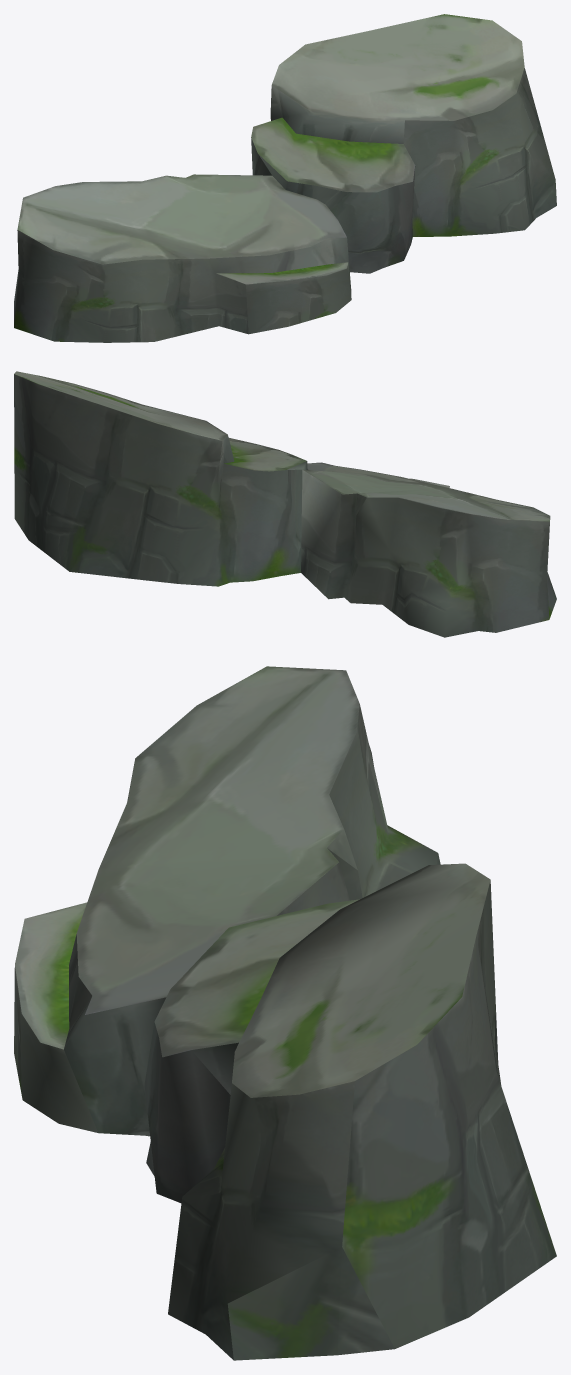
File: scene_malujiakuangdao_shan01_1.FBX
The picture shows the model from 3 angles, top to bottom: view 1: azimuth 30°, elevation 25°; view 2: azimuth 150°, elevation 25°; view 3: azimuth 270°, elevation 25°; orthographic projection. The views are drawn at different scales.
Visible parts, largest first — view 1: scene_malujiakuangdao_shan01_1; view 2: scene_malujiakuangdao_shan01_1; view 3: scene_malujiakuangdao_shan01_1.
Boxes of the visible parts, <box> form: scene_malujiakuangdao_shan01_1: <box>14,14,556,342</box>; scene_malujiakuangdao_shan01_1: <box>14,371,556,637</box>; scene_malujiakuangdao_shan01_1: <box>14,666,556,1360</box>.
Bounding box in the file's own units: 1484 × 432 × 677.
